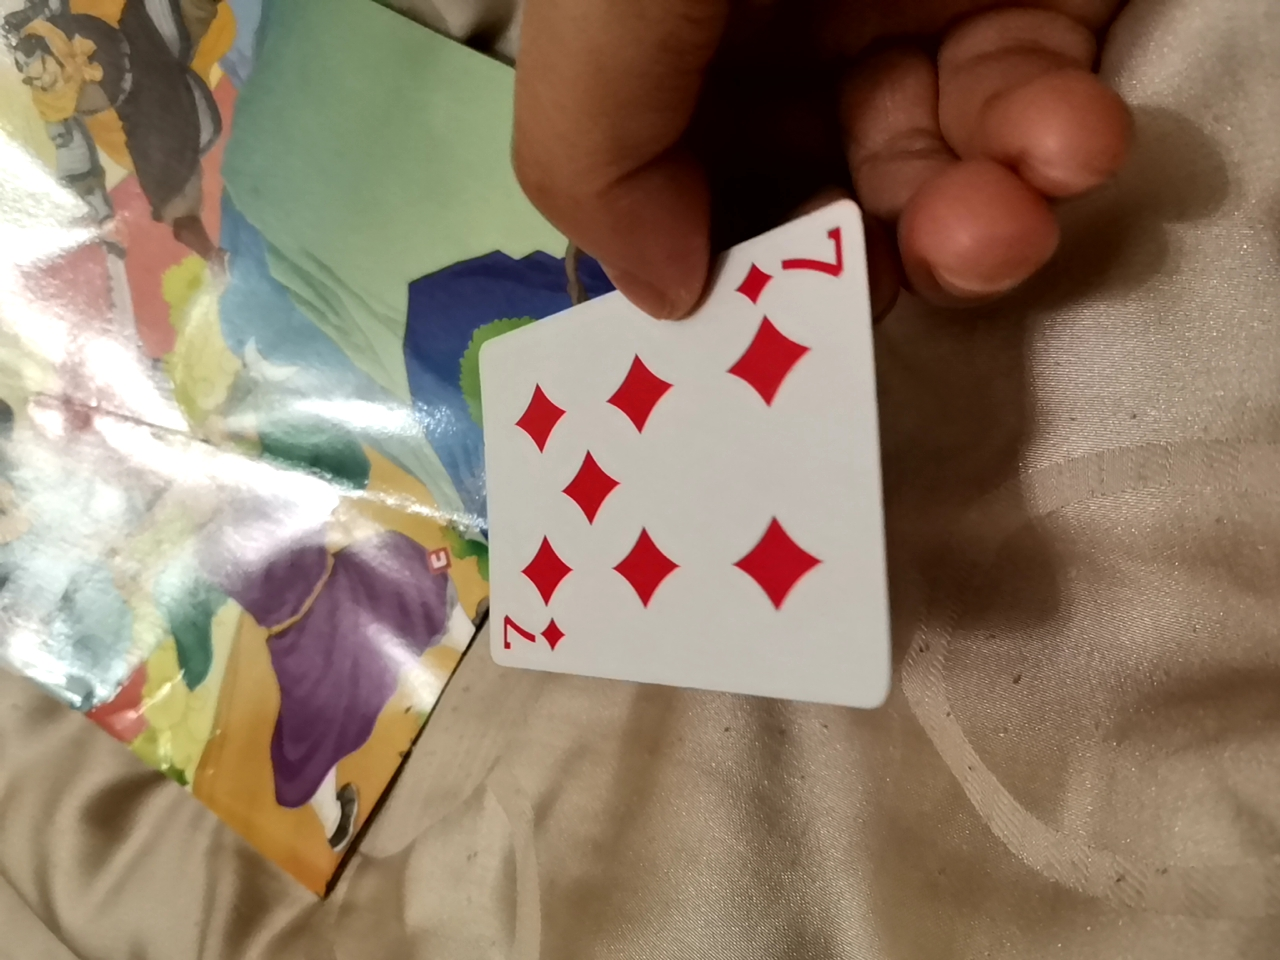fk 7: (460, 219, 889, 711)
